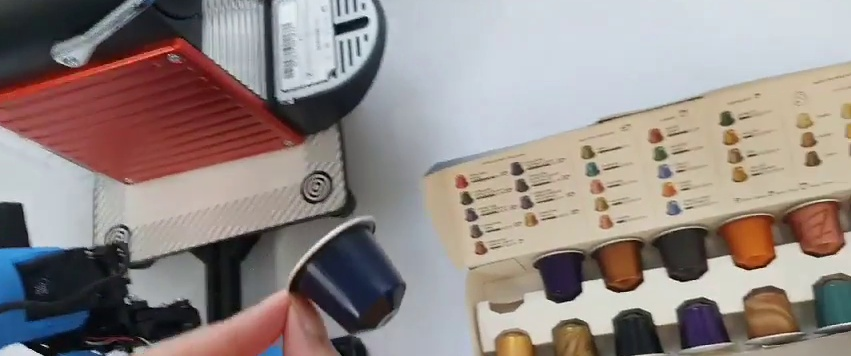capsule_1: (286, 214, 412, 338)
